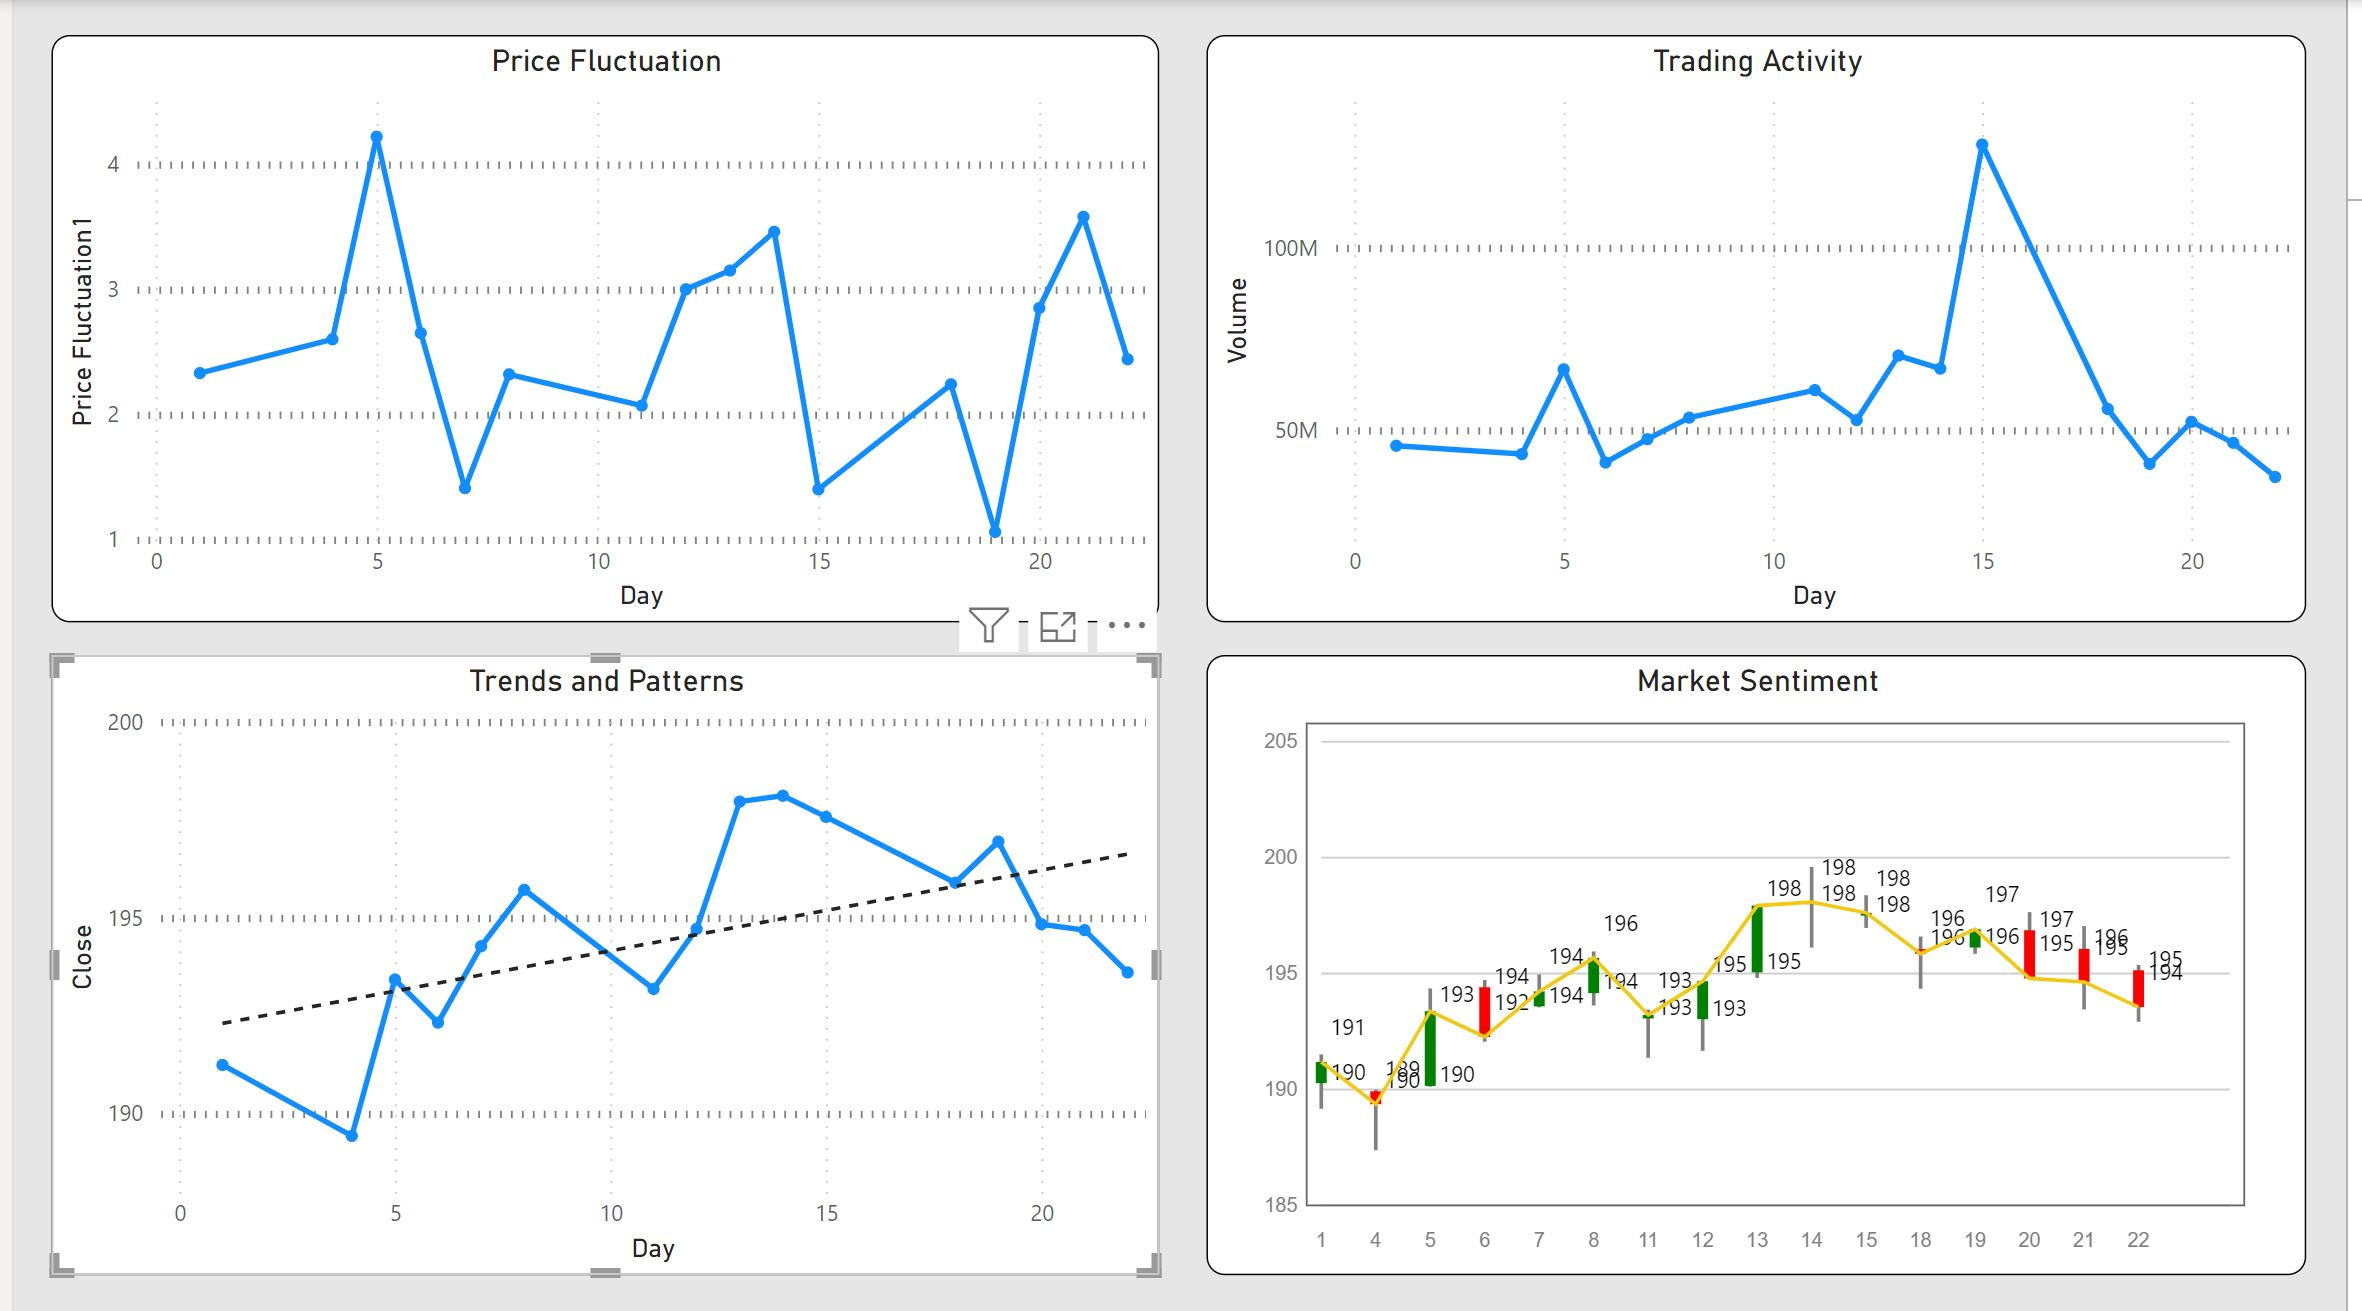

What the dashboard file says about the page in this screenshot:
{"tool":"powerbi","page":{"name":"Page 1","canvas":[1280,720],"ordinal":0},"visuals":[{"type":"lineChart","title":"Price Fluctuation","fields":{"Y":["Sum(Analysis Table.Price Fluctuation1)"],"Category":["Analysis Table.Date.Variation.Date Hierarchy.Day"]},"box":[20.6,19.2,607.9,322.5],"z":0},{"type":"lineChart","title":"Trading Activity","fields":{"Y":["Sum(Candlestick chart.Volume)"],"Category":["Candlestick chart.Date.Variation.Date Hierarchy.Day"]},"box":[654.5,19.2,603.8,322.5],"z":1000},{"type":"StockChart1464746768122","title":"Market Sentiment","fields":{"date":["Candlestick chart.Date.Variation.Date Hierarchy.Day"],"open":["Sum(Analysis Table.Open)"],"close":["Sum(Analysis Table.Close)"],"high":["Sum(Analysis Table.High)"],"low":["Sum(Analysis Table.Low)"]},"box":[654.5,359.5,603.8,340.3],"z":2000},{"type":"lineChart","title":"Trends and Patterns","fields":{"Category":["Analysis Table.Date.Variation.Date Hierarchy.Day"],"Y":["Sum(Analysis Table.Close)"]},"box":[20.6,359.5,607.9,340.3],"z":3000}]}

Visuals, with their boxes in screenshot pixels (x1, y1, x2, y2), scaled from the page's 1280x720 canvas onto the 2362x1311 screenshot:
"Price Fluctuation" lineChart: 38, 35, 1160, 622
"Trading Activity" lineChart: 1208, 35, 2322, 622
"Market Sentiment" StockChart1464746768122: 1208, 655, 2322, 1274
"Trends and Patterns" lineChart: 38, 655, 1160, 1274
